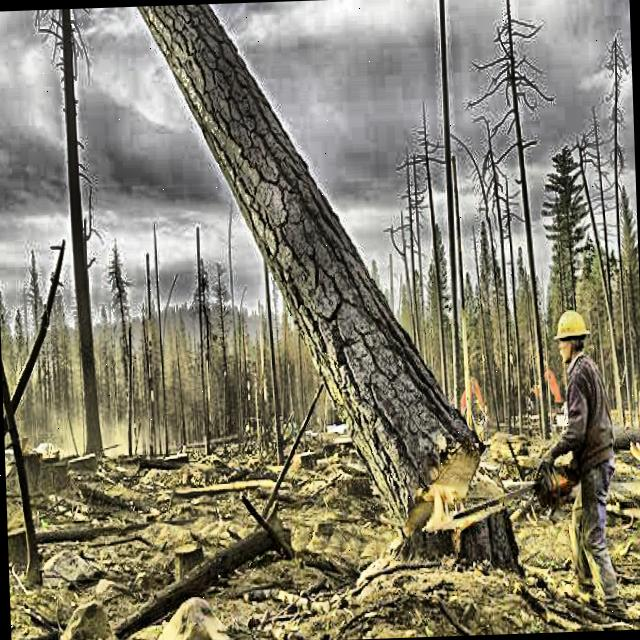helmet: (550, 301, 594, 369)
